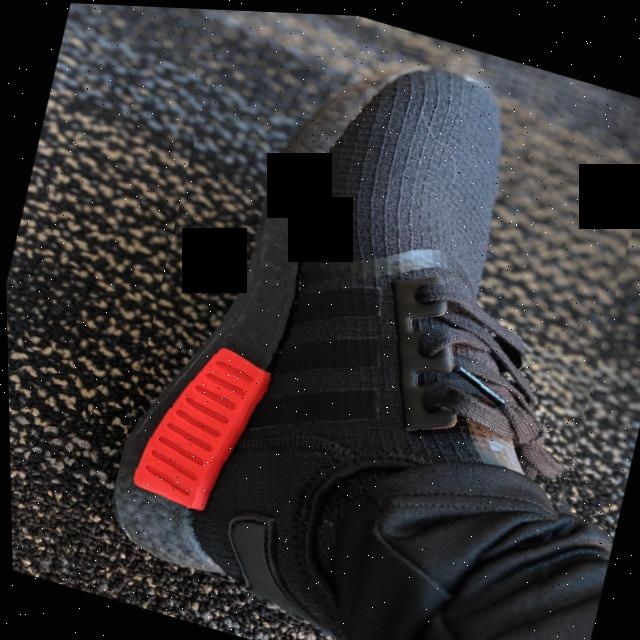shoe: (83, 3, 640, 640)
